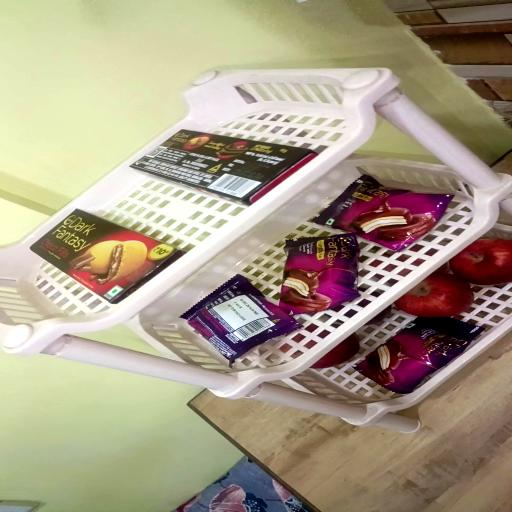Apple: (393, 272, 473, 319), (448, 240, 511, 286), (311, 336, 360, 368)
Choco Fills: (30, 210, 185, 306), (131, 129, 321, 203)
Choco Pie: (311, 175, 453, 253), (182, 275, 302, 364), (356, 318, 481, 394), (280, 236, 359, 315), (176, 471, 320, 510)
